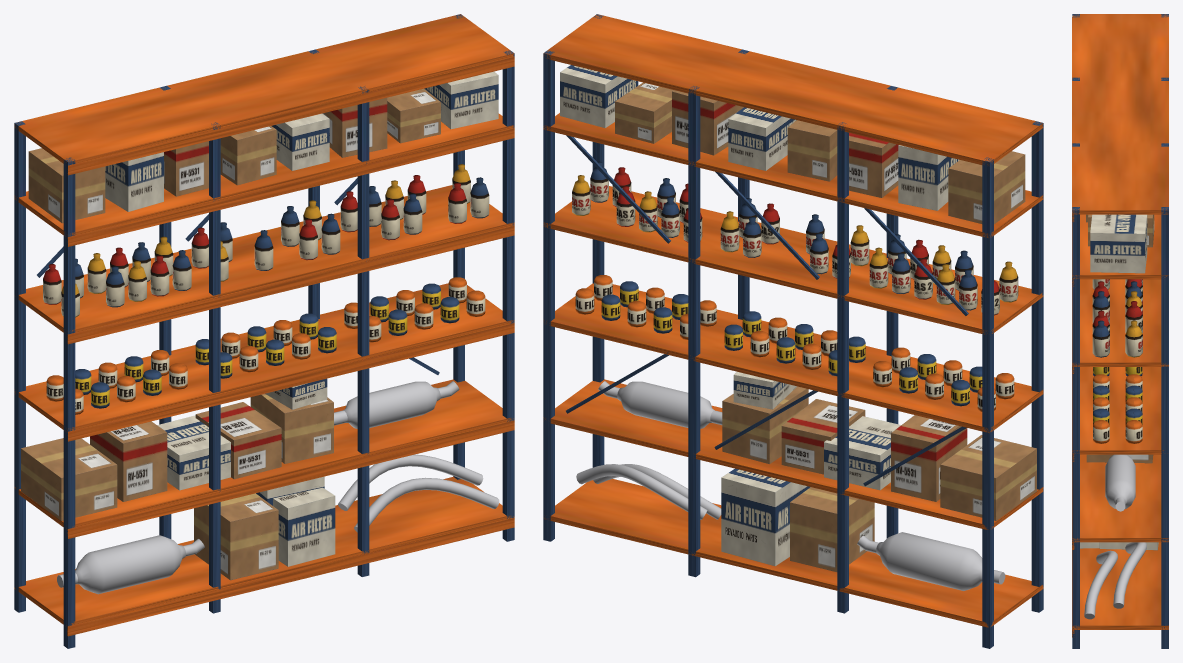
Rendered from parts-store-shelf.glb.
3 renders of one model, left to right at view 1: azimuth 30°, elevation 25°; view 2: azimuth 150°, elevation 25°; view 3: azimuth 270°, elevation 25°, orthographic. The views are drawn at different scales.
Visible parts, largest first — view 1: parts-shelf; view 2: parts-shelf; view 3: parts-shelf.
Boxes of the visible parts, x1=… form: parts-shelf: x1=14, y1=14, x2=514, y2=648; parts-shelf: x1=543, y1=14, x2=1043, y2=648; parts-shelf: x1=1072, y1=14, x2=1168, y2=648.
Size of the model in its own units: 2.4 by 2.5 by 0.501.
2 materials, 1 textured.
